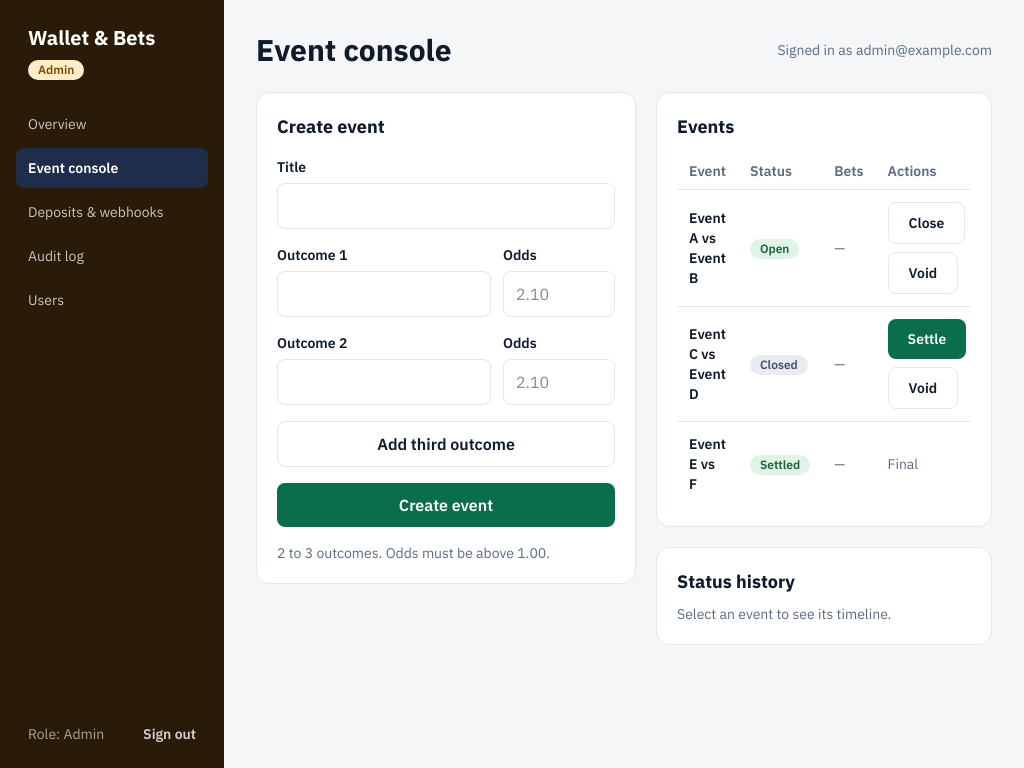
Event console: list and actions › shows a timeline for the selected event and says what the API does not provide
Expected: the text "Select an event to see its timeline." is shown, [677,605,891,623]
Click the button "Event A vs Event B" at coordinates (707, 248), box [689,208,726,288]
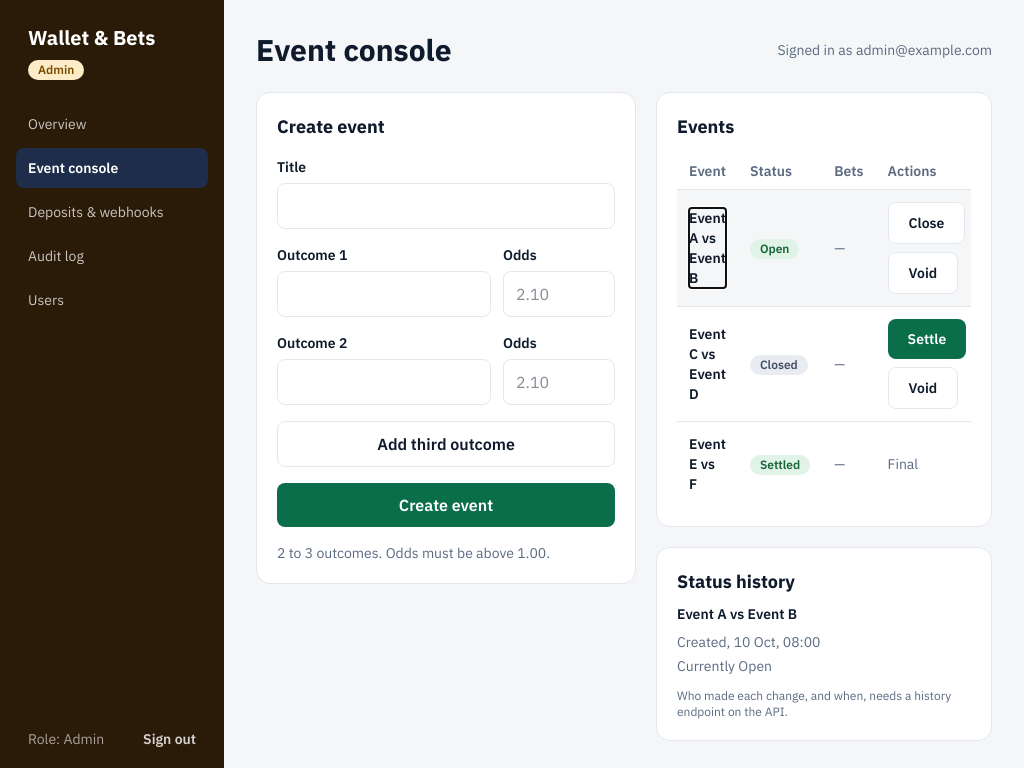
Expected: the list item "Currently Open" is shown, [677,657,772,675]
Expected: the text "needs a history endpoint" is shown, [677,688,951,719]
